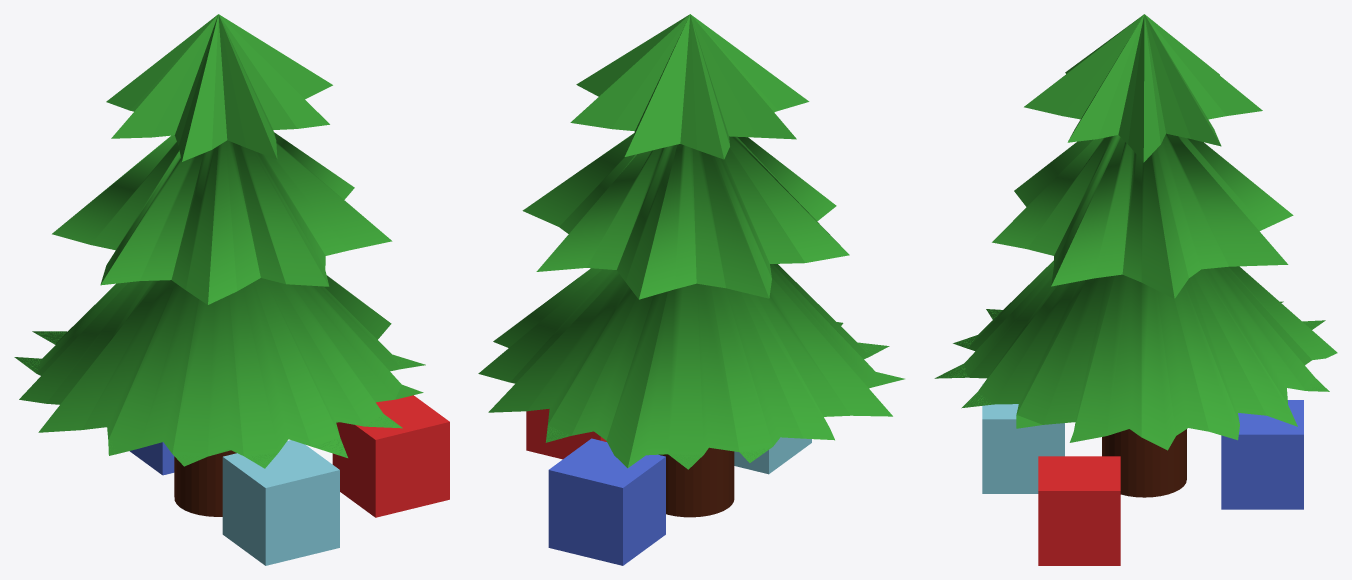
The model's file is sapin.glb.
3 views of the same model, side by side, from view 1: azimuth 30°, elevation 25°; view 2: azimuth 150°, elevation 25°; view 3: azimuth 270°, elevation 25° (orthographic). The views are drawn at different scales.
Parts seen in each view (by area): view 1: Cylinder, Cube, Cube.002, Cylinder.001, Cube.001; view 2: Cylinder, Cube.001, Cylinder.001, Cube.002, Cube; view 3: Cylinder, Cube.002, Cube.001, Cube, Cylinder.001.
Part boxes in pixels (x1,y1,x2,y2): Cylinder: (14,14,425,468); Cube: (222,440,339,565); Cube.002: (332,395,449,517); Cylinder.001: (174,450,236,516); Cube.001: (129,442,174,475); Cylinder: (478,14,904,469); Cube.001: (548,438,665,565); Cylinder.001: (659,447,734,517); Cube.002: (526,408,606,459); Cube: (734,437,811,474); Cylinder: (934,14,1337,450); Cube.002: (1038,456,1120,565); Cube.001: (1221,400,1303,509); Cube: (982,384,1064,493); Cylinder.001: (1102,429,1186,497).
Size of the model in its own units: 7.07 by 8.75 by 6.82.
